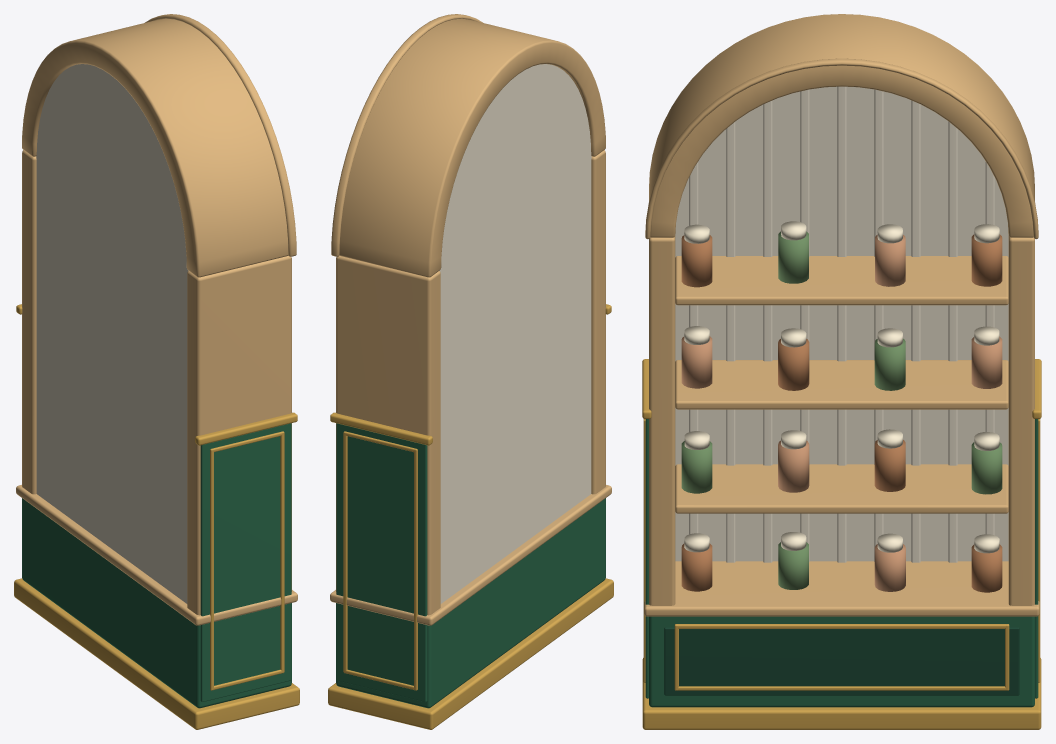
The model's file is arch_shelves.glb.
3 renders of one model, left to right at view 1: azimuth 30°, elevation 25°; view 2: azimuth 150°, elevation 25°; view 3: azimuth 270°, elevation 25°, orthographic. The views are drawn at different scales.
Parts seen in each view (by area): view 1: BackPanel, ArchHead, SidePanel-1, Side-1, Base, Plinth, Side1, BaseCap, ArchBead, SideTrimV-10.14, SideBand-1, SideTrimV-1-0.14; view 2: BackPanel, ArchHead, SidePanel1, Side1, Base, Plinth, Side-1, BaseCap, ArchBead, SideTrimV10.14, SideBand1, SideTrimV1-0.14; view 3: BackPanel, ArchHead, FrontPanel, BaseCap, Shelf1, Shelf2, Shelf3, Base, Side1, Side-1, Plinth, ArchBead (+31 smaller).
Boxes of the visible parts, x1,y1,x2,y2 form: BackPanel: [36, 64, 188, 603]; ArchHead: [22, 18, 288, 277]; SidePanel-1: [200, 423, 291, 701]; Side-1: [187, 255, 291, 615]; Base: [22, 498, 291, 708]; Plinth: [14, 578, 299, 729]; Side1: [22, 150, 36, 494]; BaseCap: [16, 485, 297, 625]; ArchBead: [145, 14, 296, 256]; SideTrimV-10.14: [280, 431, 284, 673]; SideBand-1: [195, 412, 297, 445]; SideTrimV-1-0.14: [210, 448, 213, 690]; BackPanel: [439, 64, 591, 603]; ArchHead: [339, 18, 605, 277]; SidePanel1: [336, 423, 427, 701]; Side1: [336, 255, 440, 615]; Base: [336, 498, 605, 708]; Plinth: [328, 578, 613, 729]; Side-1: [591, 150, 605, 494]; BaseCap: [330, 485, 611, 625]; ArchBead: [331, 14, 482, 256]; SideTrimV10.14: [343, 431, 347, 673]; SideBand1: [330, 412, 432, 445]; SideTrimV1-0.14: [414, 448, 417, 690]; BackPanel: [675, 86, 1008, 561]; ArchHead: [649, 14, 1034, 237]; FrontPanel: [664, 627, 1019, 695]; BaseCap: [644, 561, 1039, 616]; Shelf1: [675, 464, 1008, 513]; Shelf2: [675, 360, 1008, 409]; Shelf3: [675, 256, 1008, 305]; Base: [649, 616, 1034, 707]; Side1: [1008, 236, 1034, 605]; Side-1: [649, 236, 675, 605]; Plinth: [642, 658, 1041, 729]; ArchBead: [645, 58, 1038, 239].
Size of the model in its own units: 0.425 by 2.37 by 1.28.
